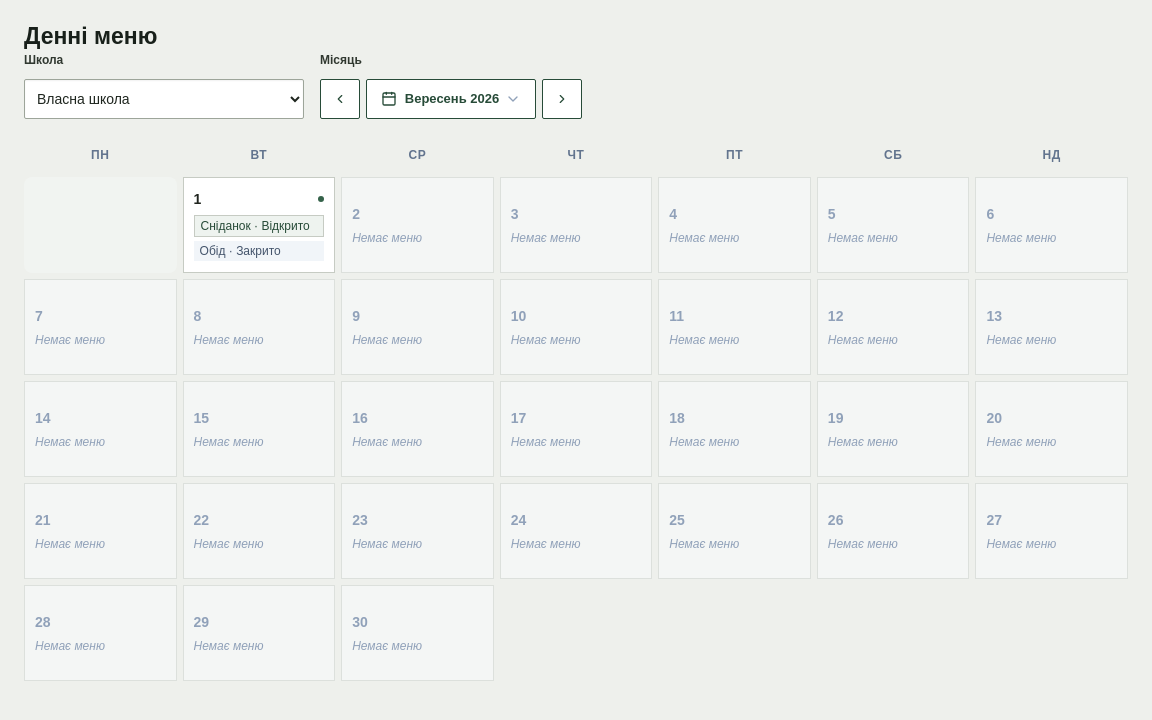
allows opening the month picker, switching year and selecting a month
Click the button with aria-label "Місяць:" at (451, 99), box [366,79,536,119]
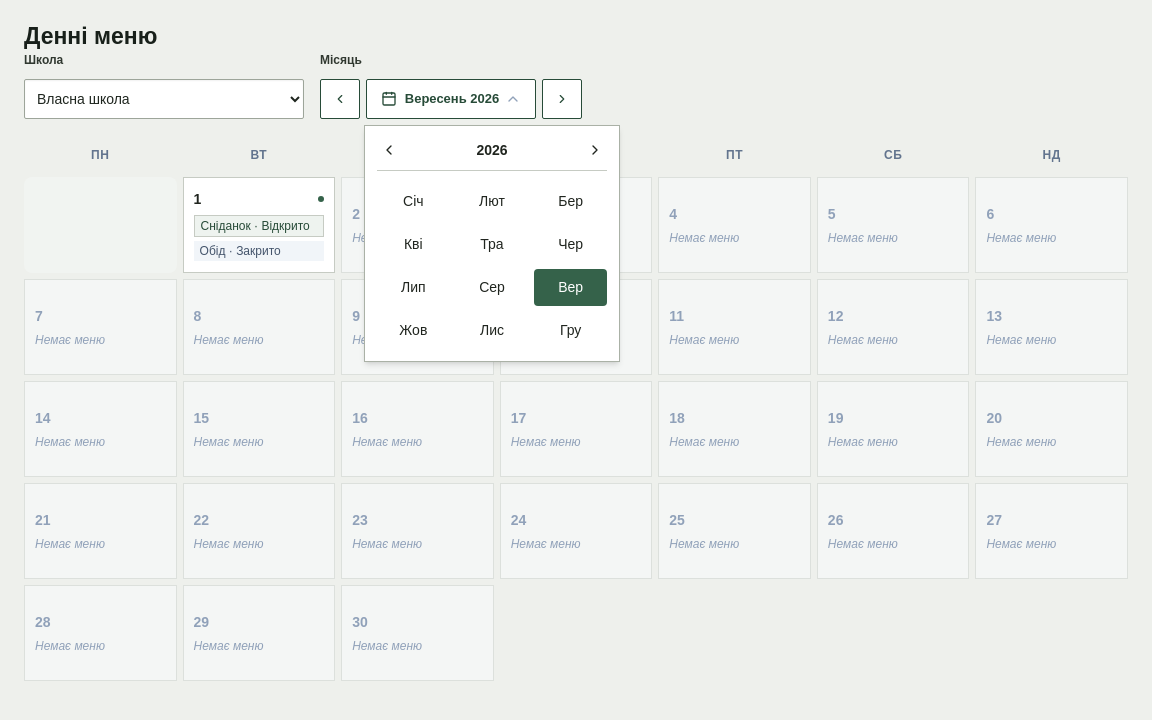
Result: the dialog named "Календар вибору місяця" is shown at [364,125,620,362]
# Shift year forward
Click the button named "Наступний рік" at (595, 150), box [583,138,607,162]
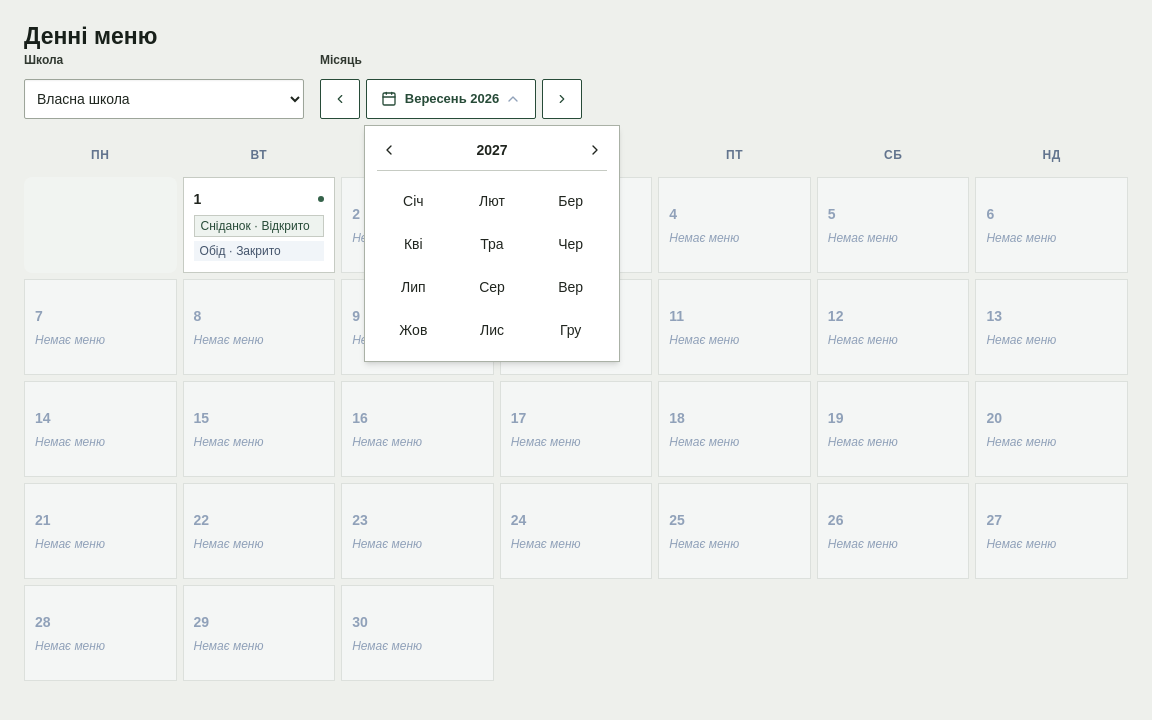
Result: the text "2027" is shown at [476,140,508,160]
# Select March 2027
Click the button "Бер" at (571, 201), box [534,183,607,220]
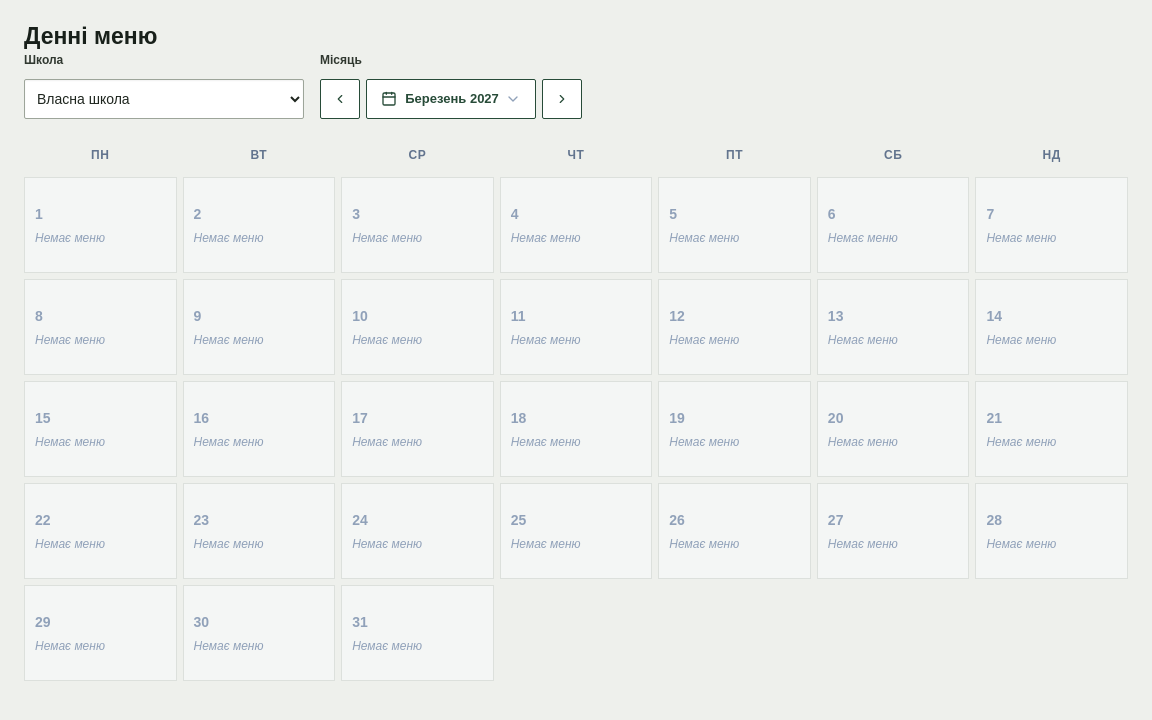
Result: the dialog is gone
